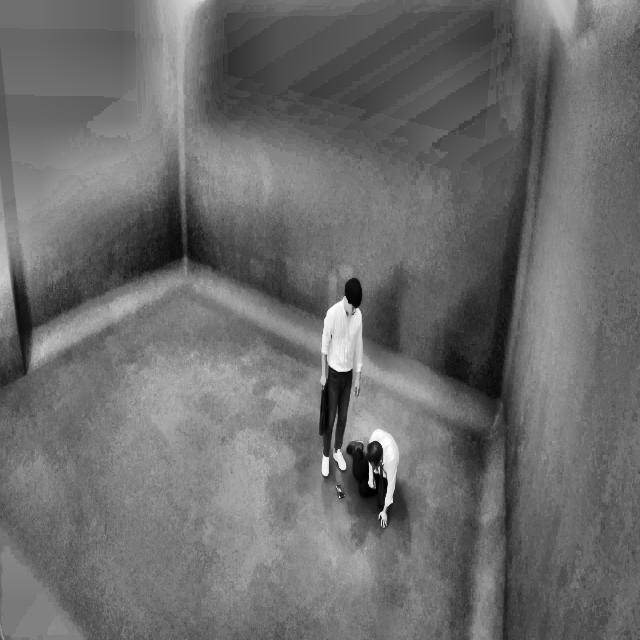assult: (306, 262, 408, 531), (332, 419, 401, 528)
